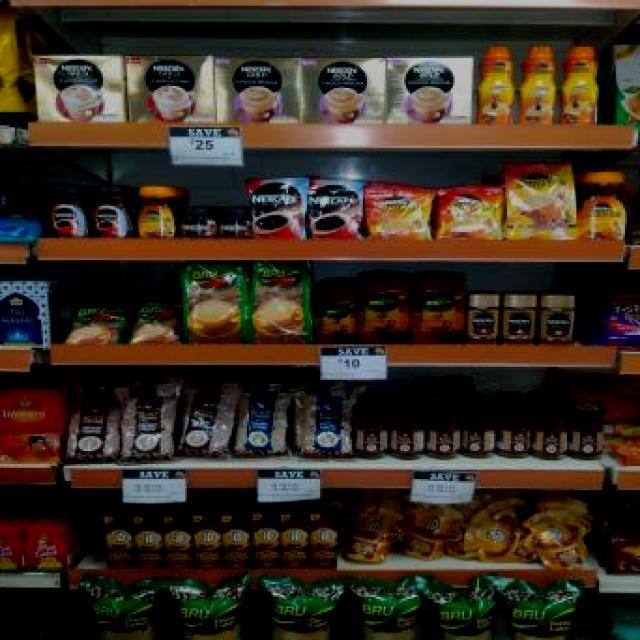Coffee: (509, 164, 571, 238), (576, 172, 628, 242), (251, 180, 305, 238), (368, 190, 428, 240), (561, 46, 599, 124), (309, 181, 361, 238), (442, 188, 500, 239), (520, 46, 556, 124), (480, 46, 512, 124), (135, 184, 176, 238), (90, 184, 130, 238), (46, 185, 84, 238), (502, 294, 537, 344), (540, 295, 575, 345), (466, 294, 496, 344), (180, 206, 214, 238), (217, 207, 249, 238)
